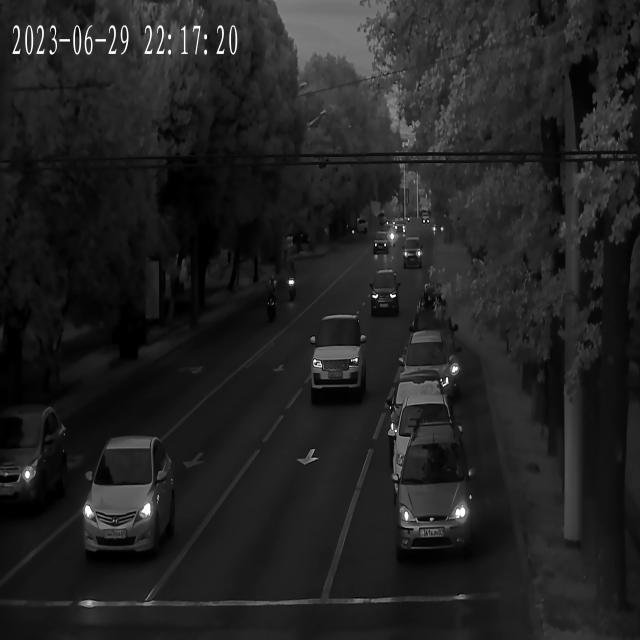Car: (82, 431, 174, 568), (397, 420, 472, 565), (0, 403, 70, 511), (392, 387, 454, 491), (386, 367, 452, 451), (308, 312, 366, 404), (397, 331, 454, 406), (412, 308, 462, 388), (370, 270, 400, 320), (402, 234, 424, 272), (376, 231, 390, 254), (394, 217, 407, 236)
